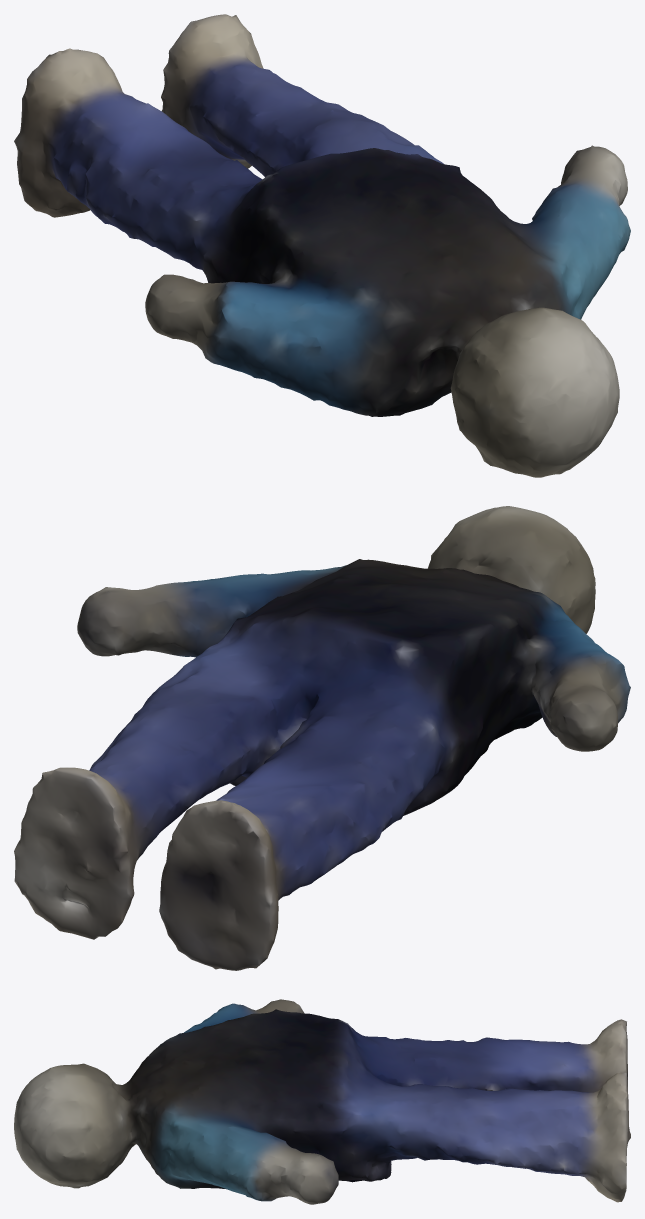
The model's file is grandfather.glb.
The picture shows the model from 3 angles, top to bottom: view 1: azimuth 30°, elevation 25°; view 2: azimuth 150°, elevation 25°; view 3: azimuth 270°, elevation 25°; orthographic projection. The views are drawn at different scales.
Size of the model in its own units: 0.6796 by 0.239 by 0.9973.
